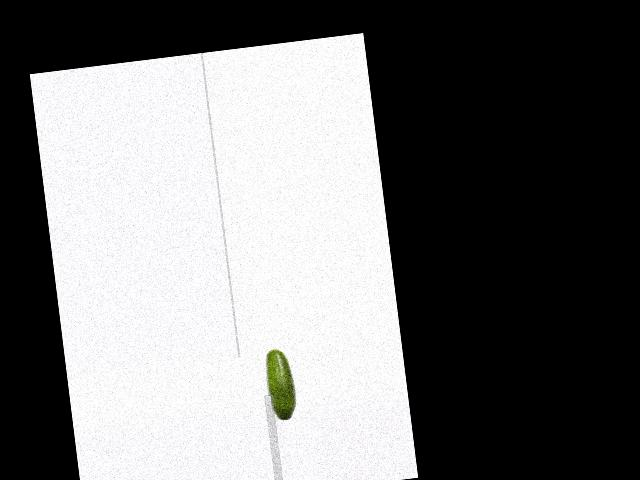cucumber: (262, 347, 299, 423)
